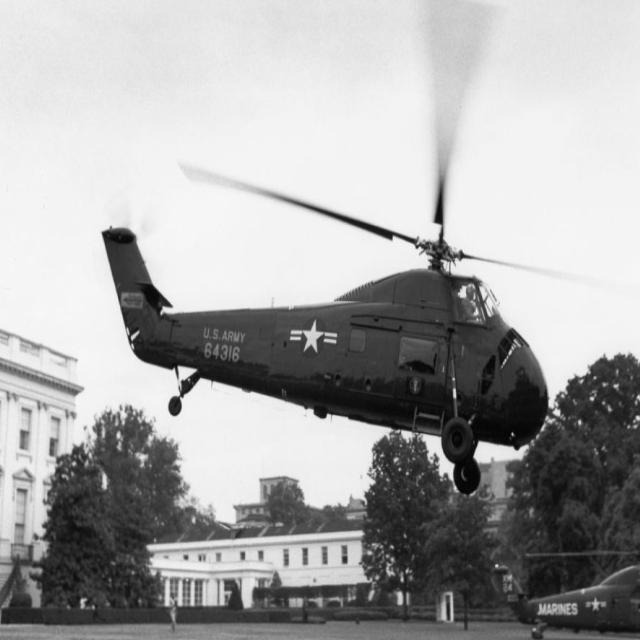helicopter: (105, 1, 543, 498)
